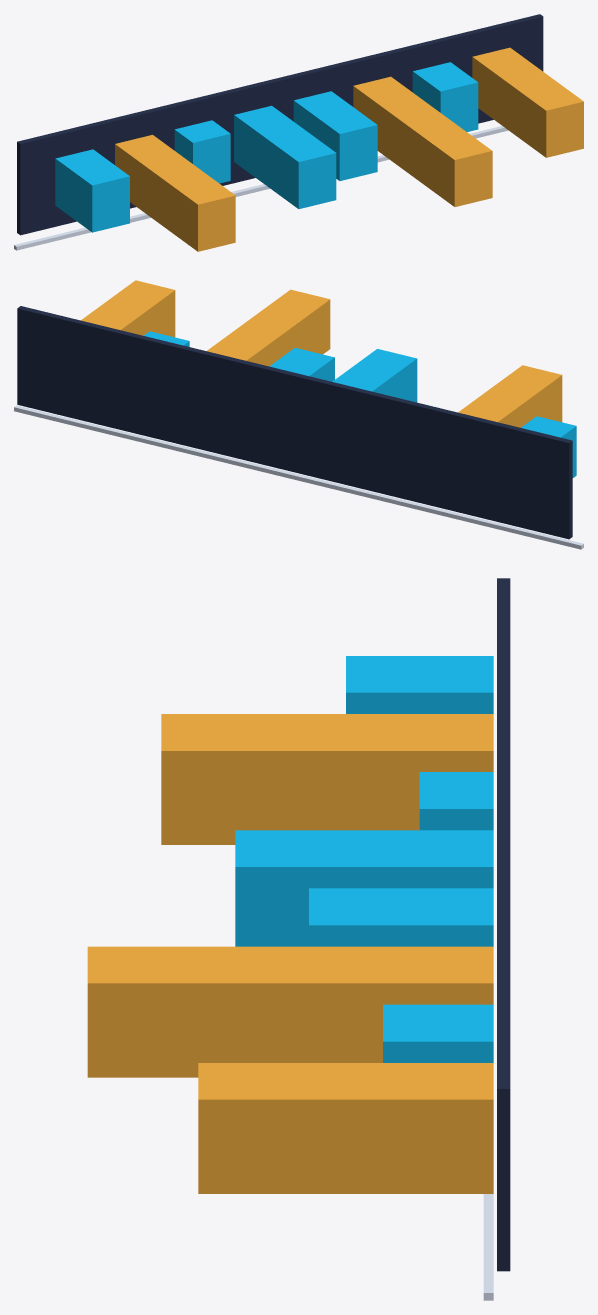
3 views of the same model, one above another, from view 1: azimuth 30°, elevation 25°; view 2: azimuth 150°, elevation 25°; view 3: azimuth 270°, elevation 25° (orthographic). The views are drawn at different scales.
Visible parts, largest first — view 1: data-bars; view 2: data-bars; view 3: data-bars.
Boxes of the visible parts, box(x1,y1,x2,y2) form: data-bars: box(14, 14, 583, 251); data-bars: box(14, 280, 583, 549); data-bars: box(87, 578, 510, 1300).
Bounding box in the file's own units: 7.4 × 1.35 × 2.52.
